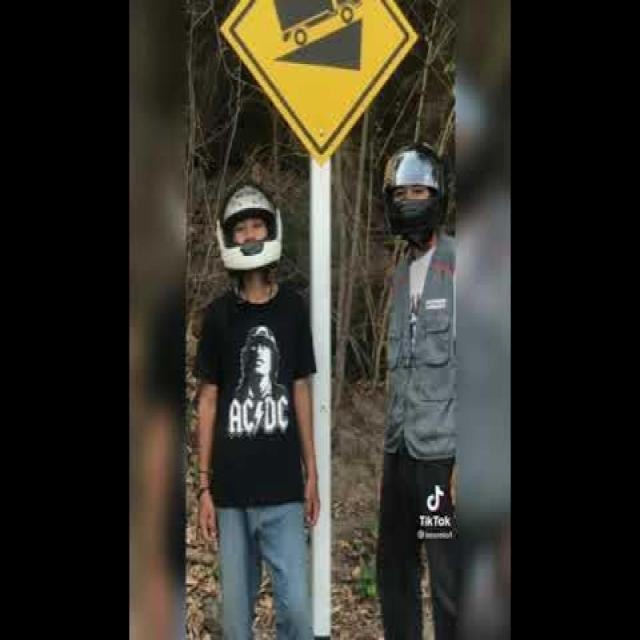helmet: (377, 138, 453, 240), (214, 181, 292, 272)
